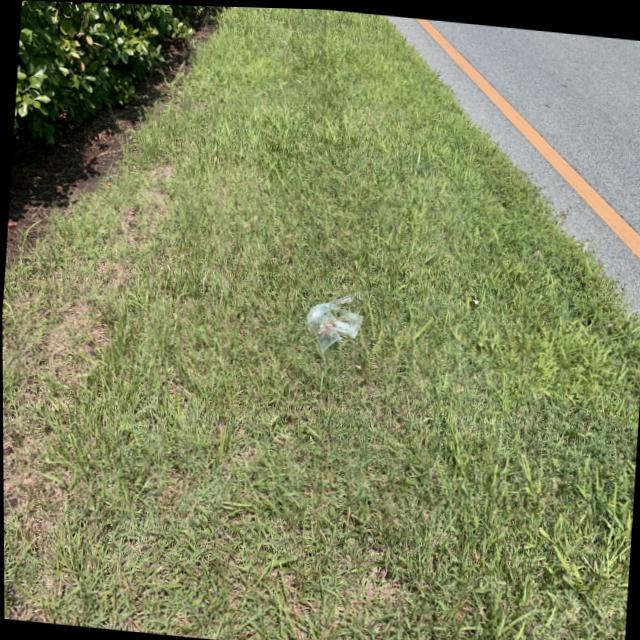Plastic: (301, 285, 368, 354)
